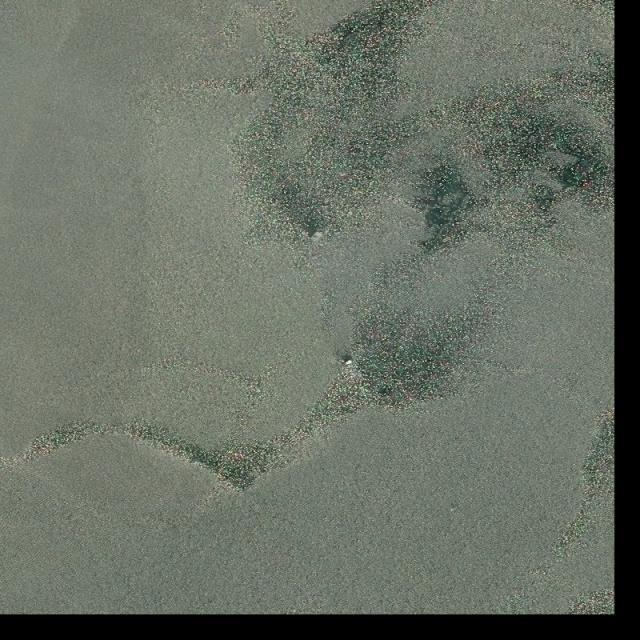ship: (340, 358, 354, 369)
